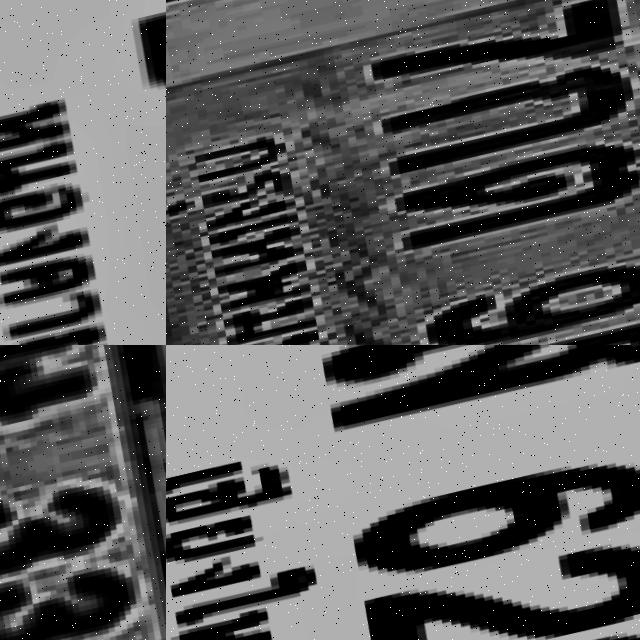license-plate: (166, 0, 640, 345), (166, 345, 640, 640), (0, 0, 166, 345), (0, 345, 166, 640)
